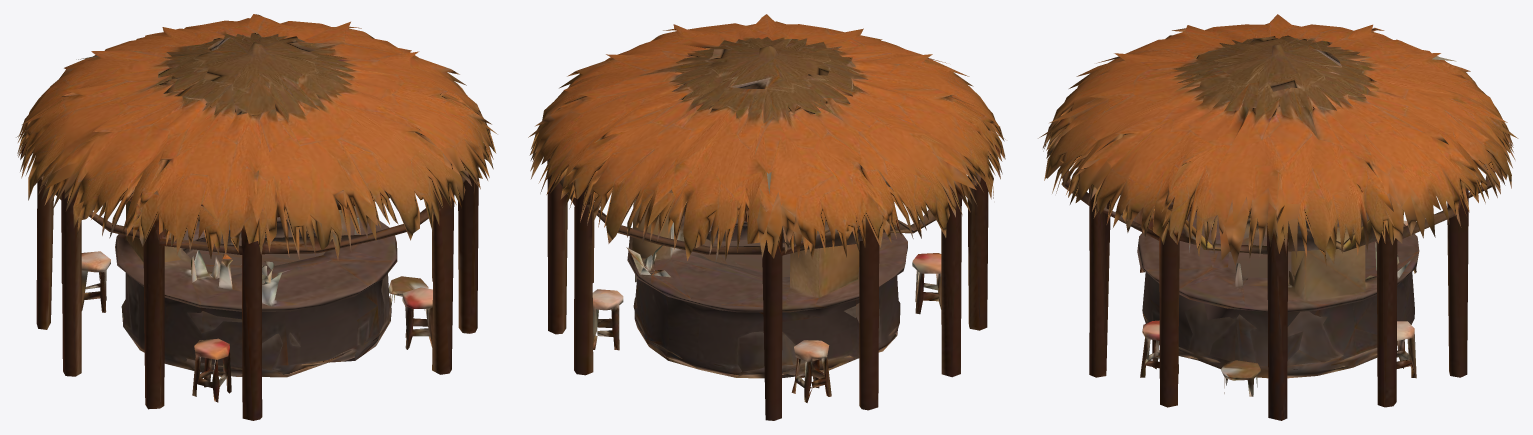
The model's file is beach_bar.glb.
3 renders of one model, left to right at view 1: azimuth 30°, elevation 25°; view 2: azimuth 150°, elevation 25°; view 3: azimuth 270°, elevation 25°, orthographic.
Size of the model in its own units: 1.89 by 1.22 by 1.89.
1 material, 1 textured.
